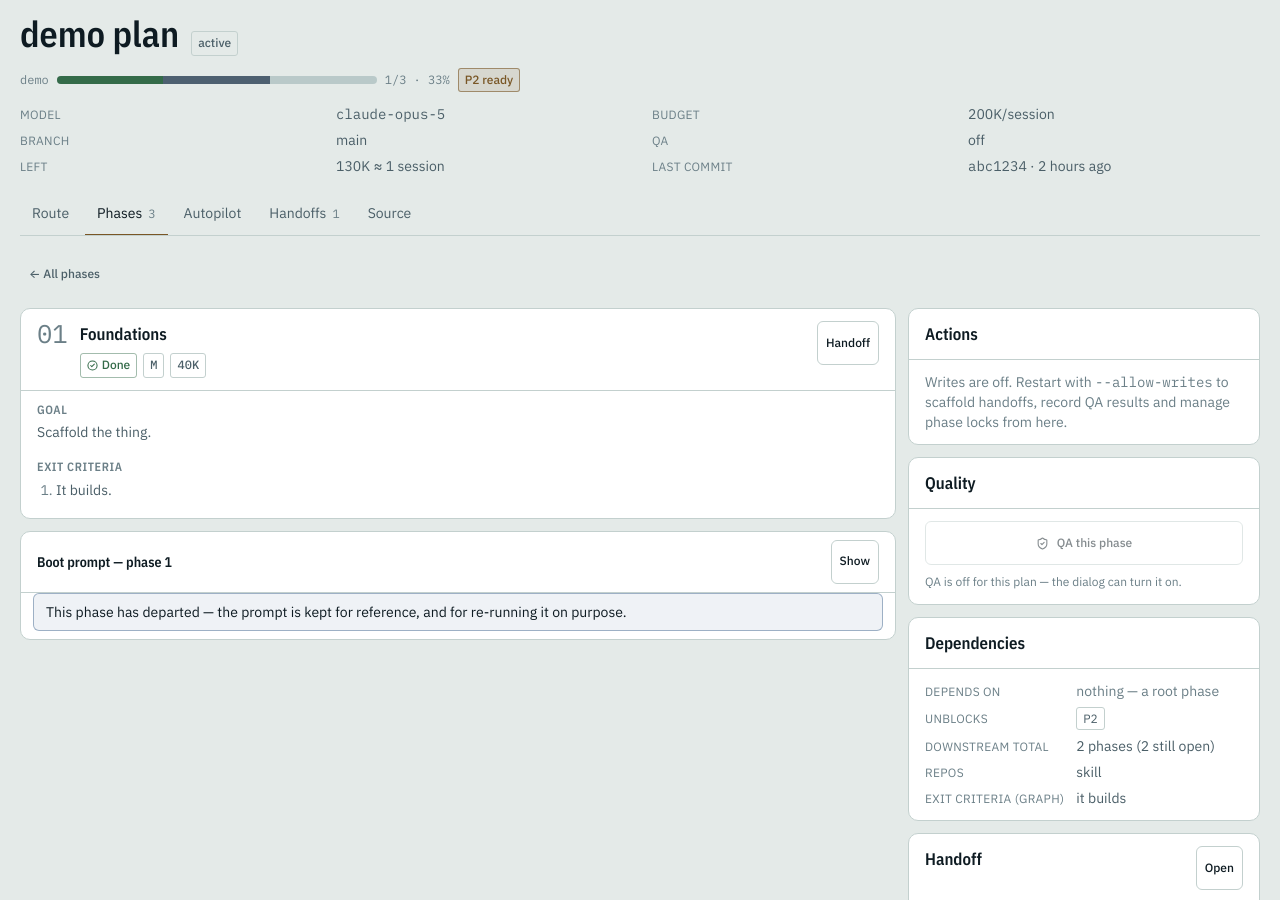
it: the plan surface renders its parts › the boot prompt › a departed phase keeps its prompt, collapsed, and says so
Check: the text "Boot prompt — phase 1" is shown, box [37,552,172,572]
Check: the text "kept for reference" is shown, box [46,603,626,621]
What coordinates should you click on to do the following:
click the button "Show"
I would click on:
 (855, 562)
Its box is [831,540,879,584].
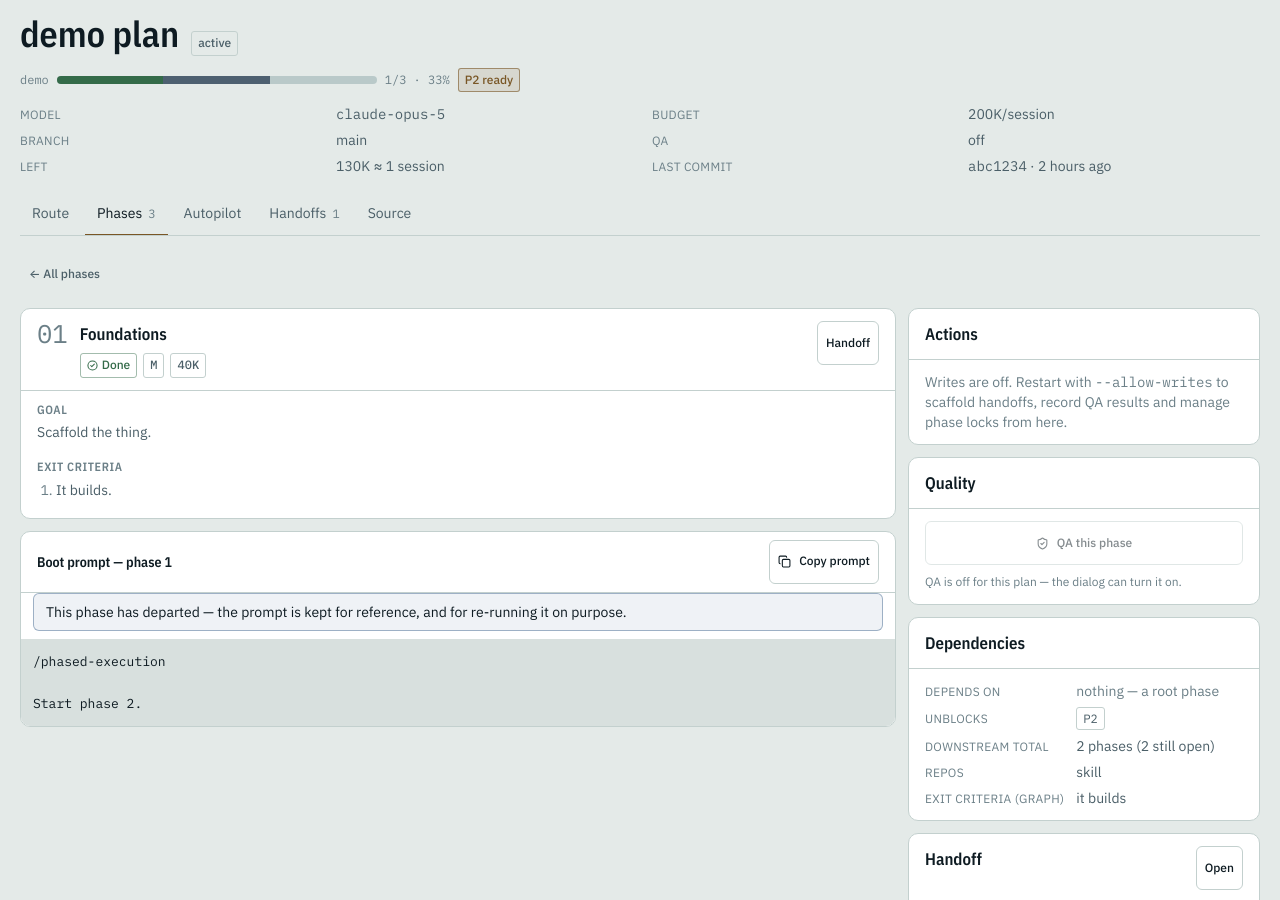
Check: the text "/phased-execution Start phase 2." is shown, box [21,639,895,726]
